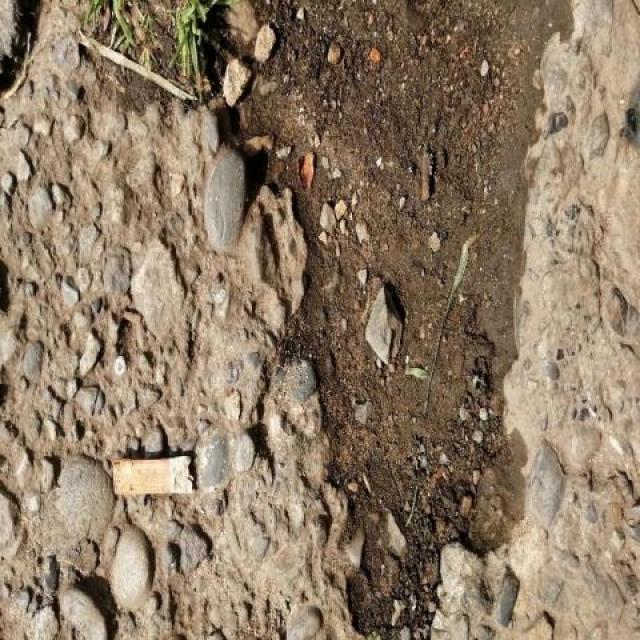non-organic waste: (108, 449, 200, 502)
